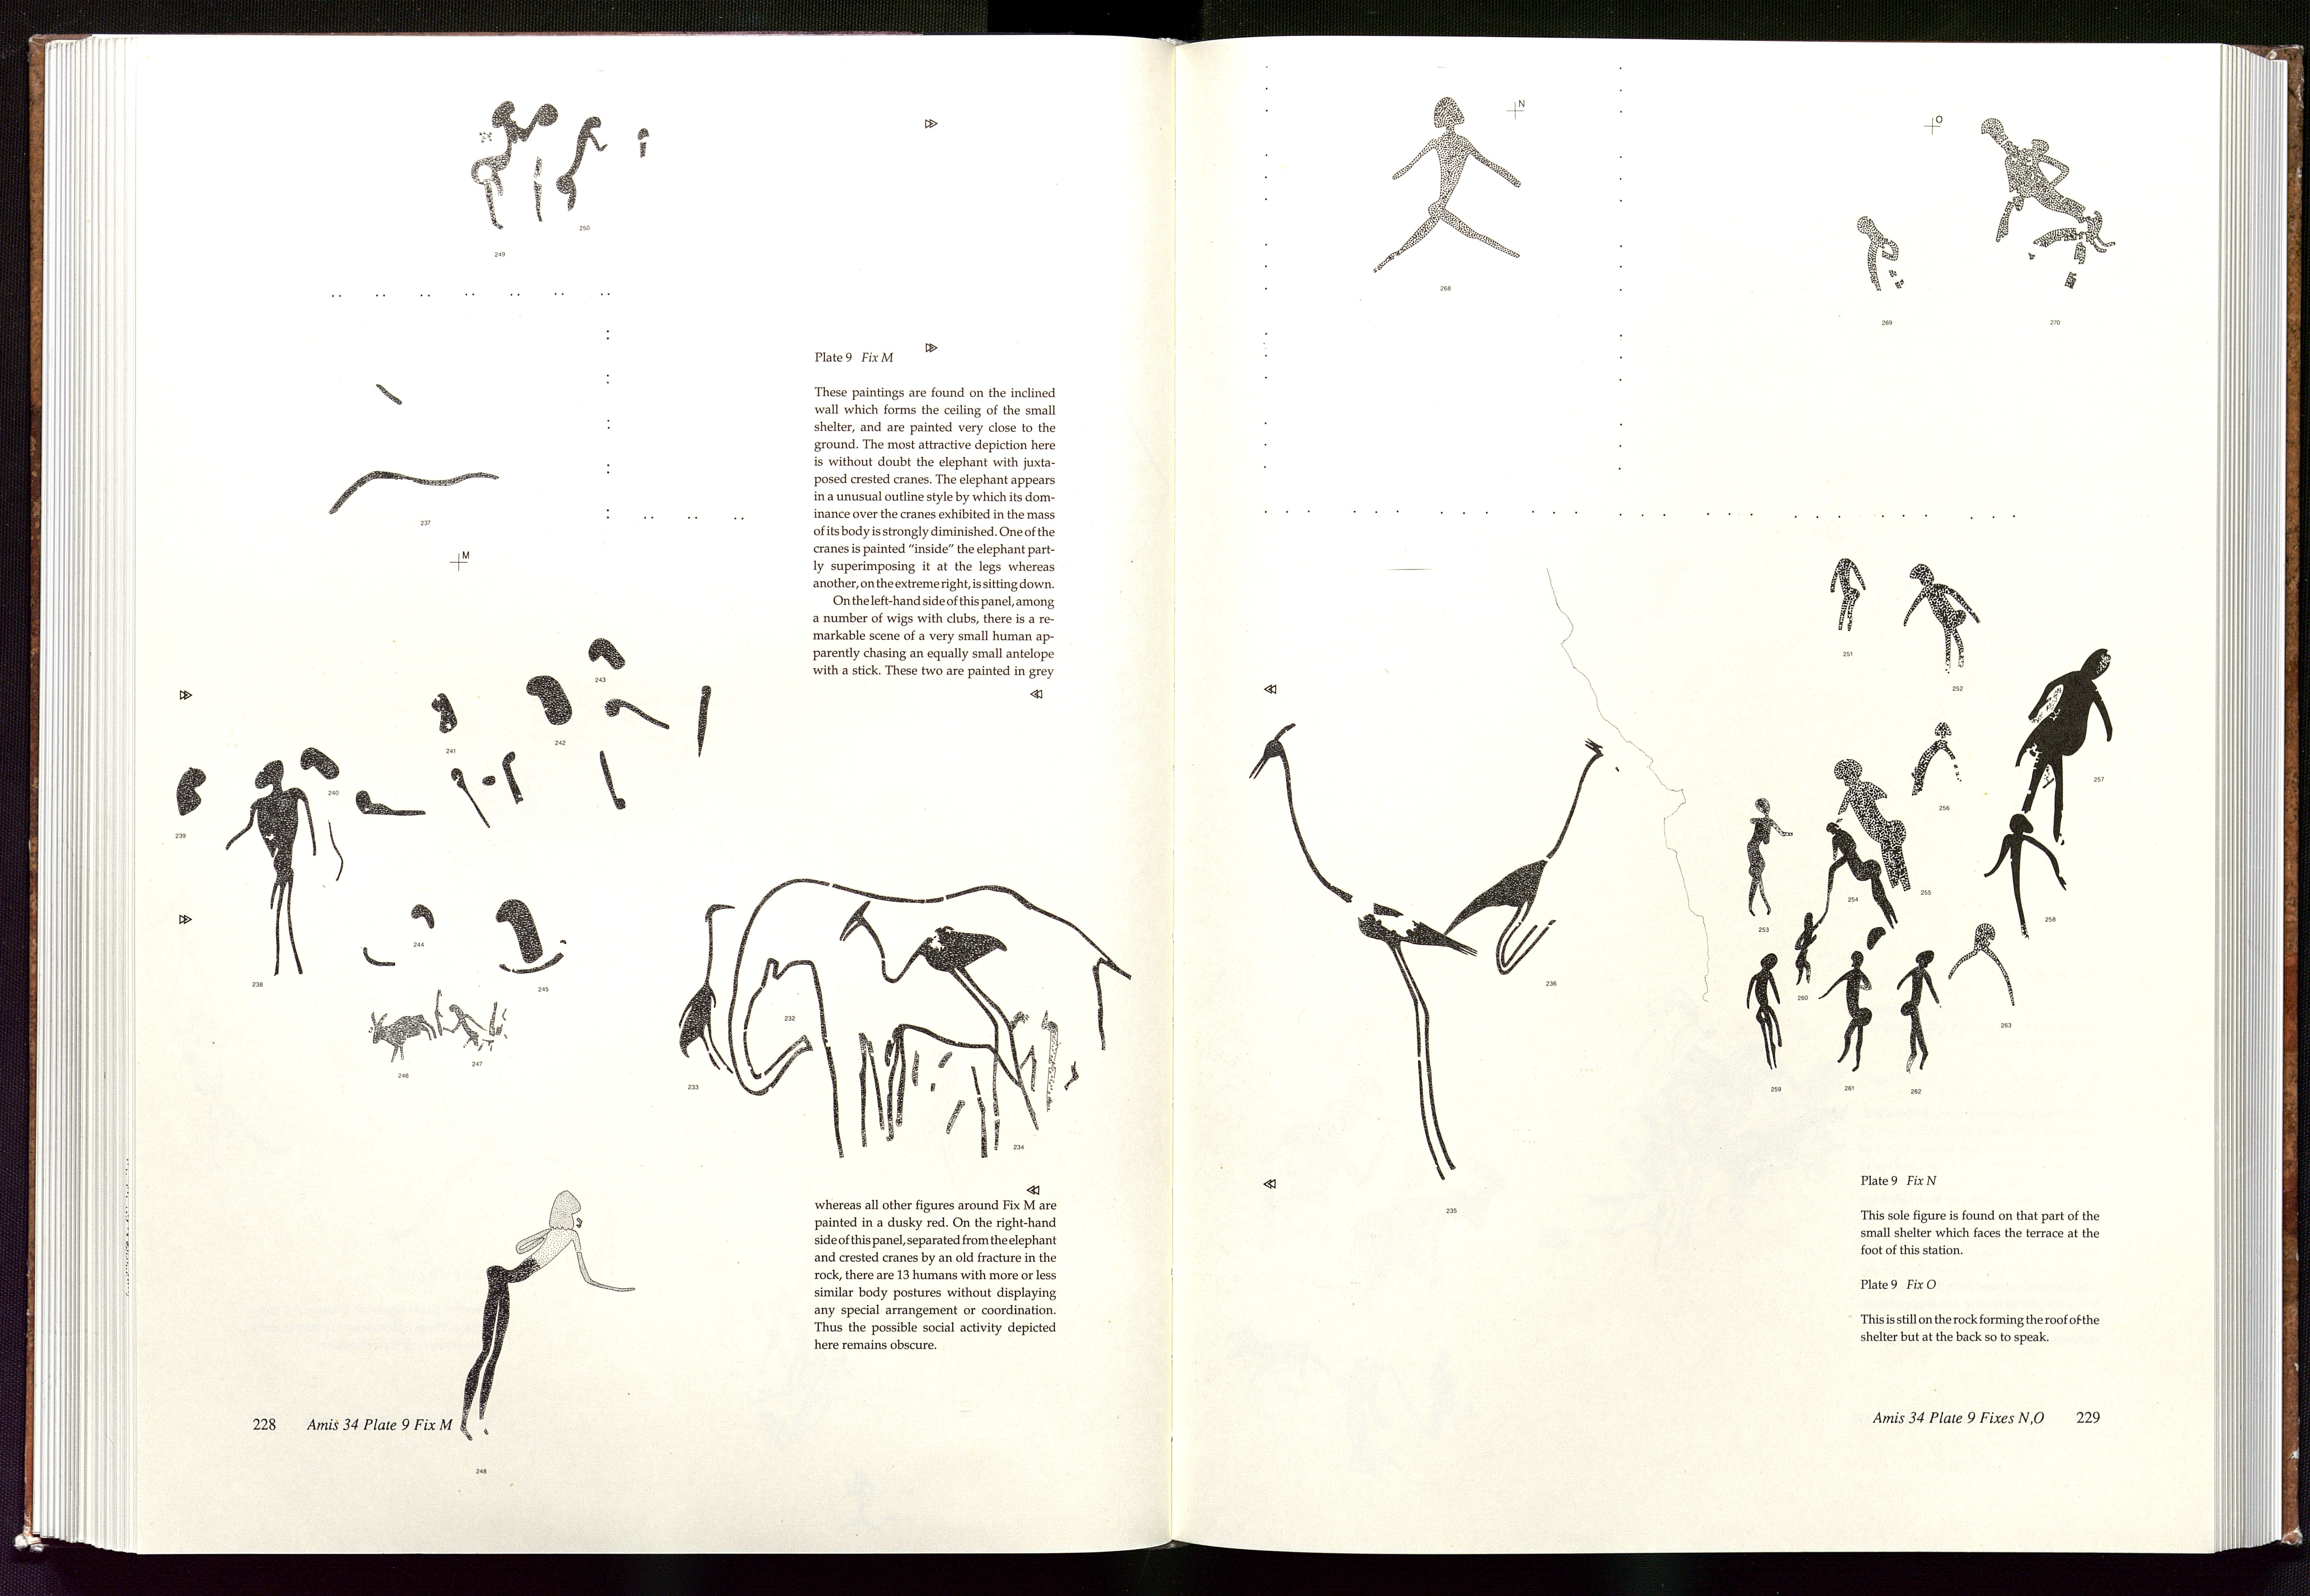animal: (726, 868, 1141, 1158), (1242, 716, 1490, 1197), (1438, 735, 1623, 983), (665, 878, 736, 1111)
human: (456, 1182, 640, 1465), (1367, 92, 1522, 274), (2013, 647, 2141, 848), (235, 765, 321, 976), (1831, 753, 1939, 912), (1893, 558, 1991, 696), (1816, 821, 1912, 934), (1991, 809, 2065, 944), (1822, 949, 1883, 1086), (1745, 797, 1799, 949), (1735, 951, 1802, 1079), (1900, 941, 1954, 1089), (557, 109, 611, 222)
